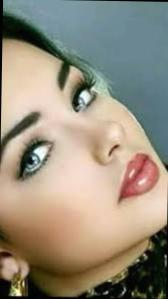opened: (17, 68, 96, 184)
